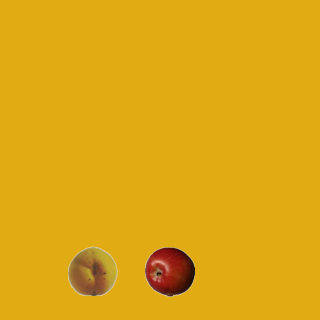Apple Braeburn: (144, 246, 194, 296)
Peach 2: (67, 245, 117, 295)
